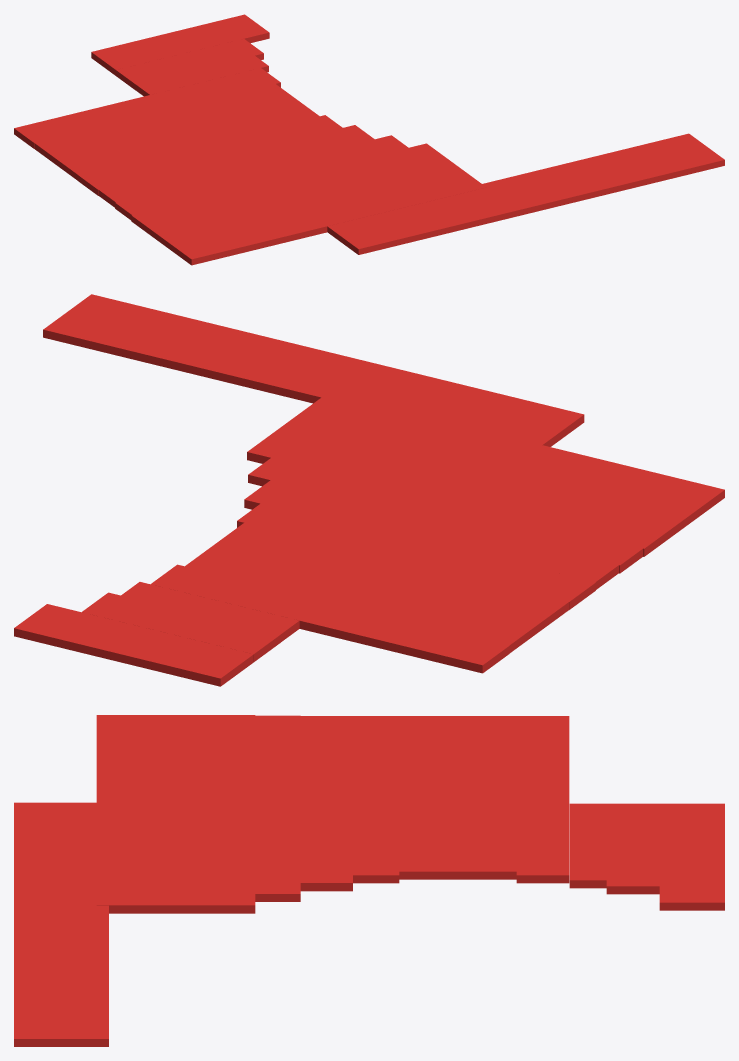
The picture shows the model from 3 angles, top to bottom: view 1: azimuth 30°, elevation 25°; view 2: azimuth 150°, elevation 25°; view 3: azimuth 270°, elevation 25°; orthographic projection. The views are drawn at different scales.
Visible parts, largest first — view 1: 立方体.008; view 2: 立方体.008; view 3: 立方体.008.
Boxes of the visible parts, x1,y1,x2,y2 form: 立方体.008: [14, 14, 724, 265]; 立方体.008: [14, 294, 724, 686]; 立方体.008: [14, 715, 724, 1046].
Bounding box in the file's own units: 173 × 2 × 160.
